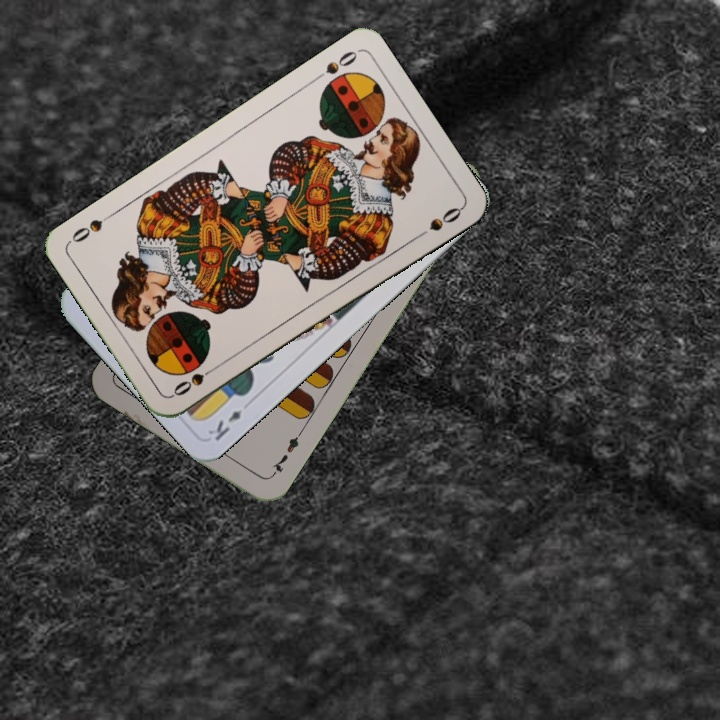E7: (267, 427, 305, 480)
EK: (203, 405, 244, 444)
SO: (169, 361, 222, 400), (308, 46, 360, 85)
